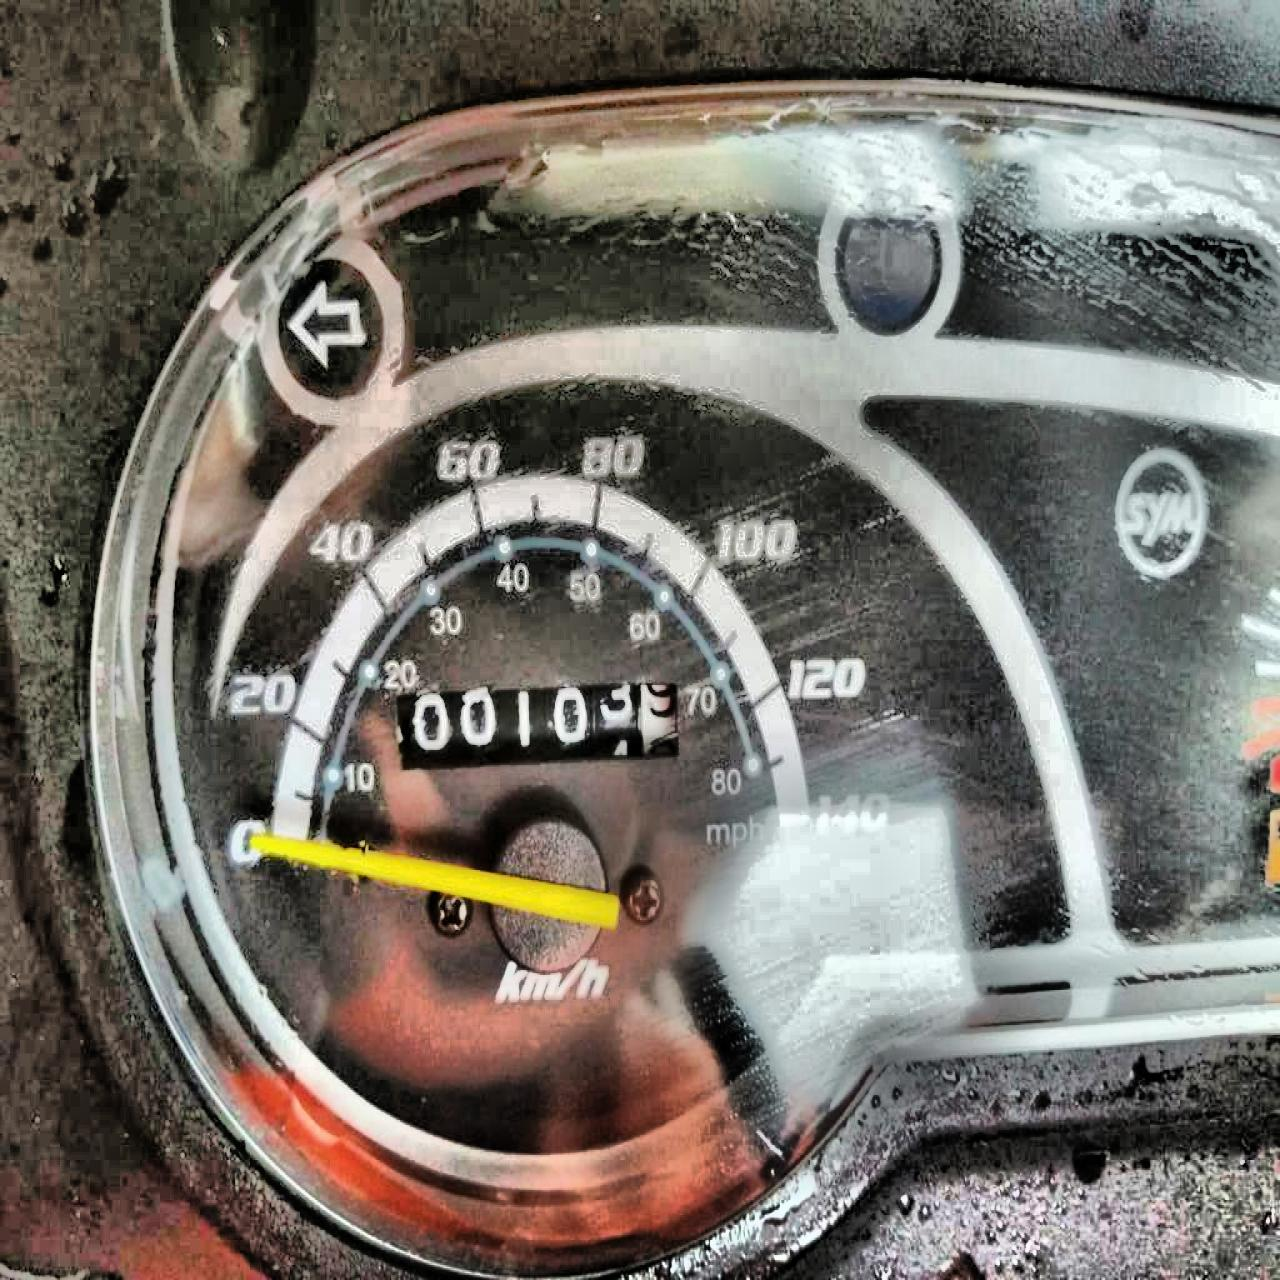0: (411, 690, 450, 755), (459, 682, 496, 750), (552, 681, 587, 747), (400, 659, 417, 685)
1: (512, 680, 533, 748)
2: (384, 659, 400, 688)
3: (598, 673, 635, 724)
7: (683, 682, 697, 715)
9: (641, 672, 678, 719)
odometer: (381, 656, 699, 771)
